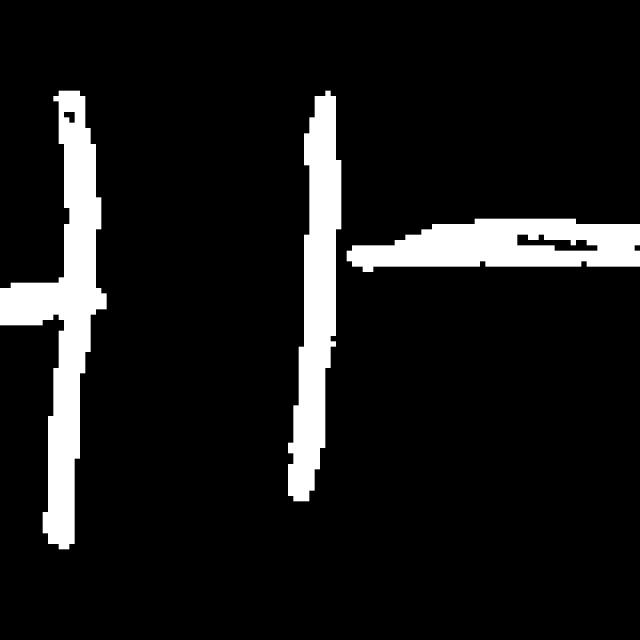capacitor: (46, 76, 354, 554)
